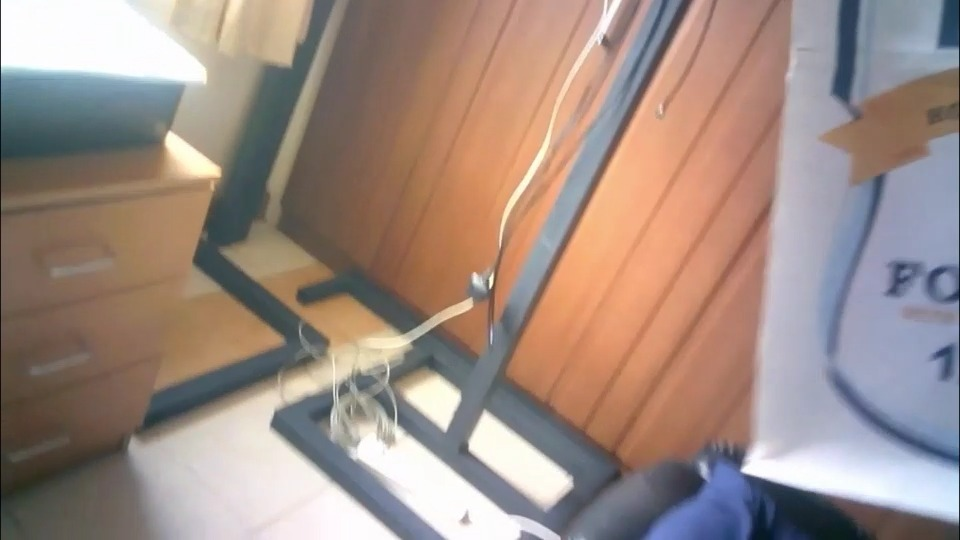wheat_flour_blue_label: (744, 11, 958, 526)
